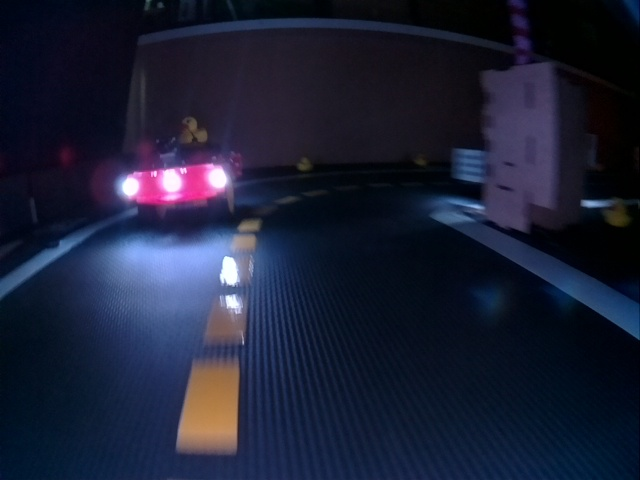Duckie: (179, 117, 207, 144), (603, 201, 630, 228), (298, 159, 311, 170), (418, 156, 426, 165)
Duckiebot: (125, 153, 238, 220)
